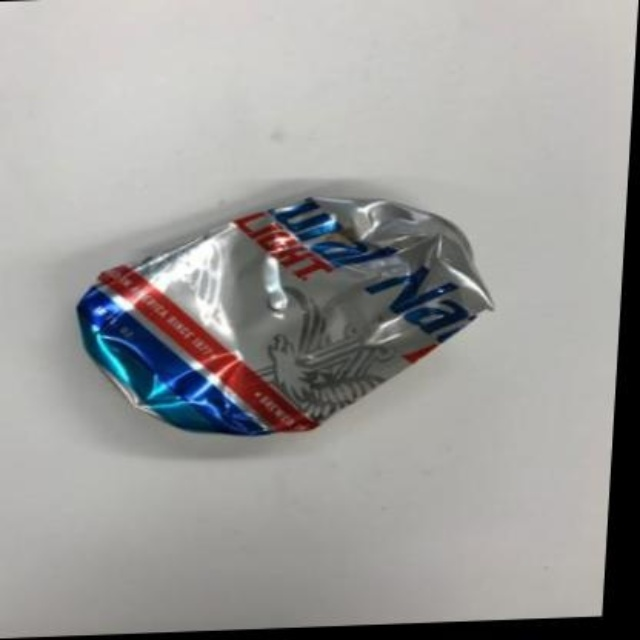trash: (77, 197, 491, 434)
